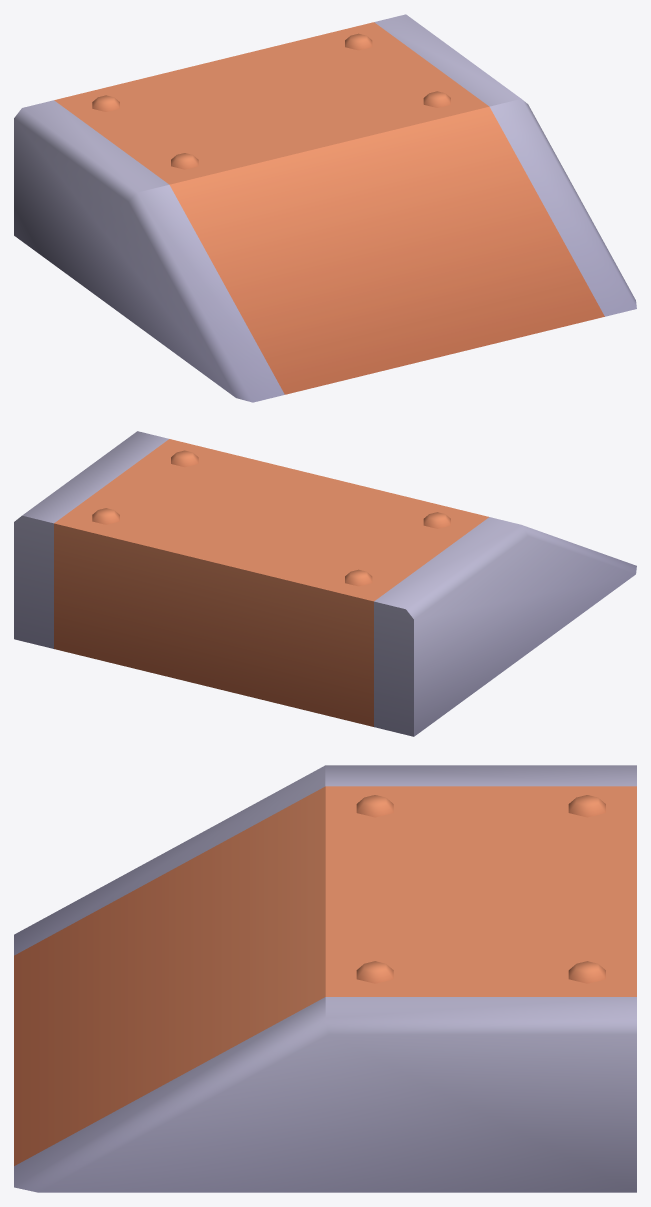
Rendered from sport_ramp.glb.
The picture shows the model from 3 angles, top to bottom: view 1: azimuth 30°, elevation 25°; view 2: azimuth 150°, elevation 25°; view 3: azimuth 270°, elevation 25°; orthographic projection. The views are drawn at different scales.
Parts seen in each view (by area): view 1: ramp; view 2: ramp; view 3: ramp.
Part boxes in pixels (bbox=[...]): ramp: bbox=[14, 14, 636, 402]; ramp: bbox=[14, 431, 636, 736]; ramp: bbox=[14, 765, 636, 1192].
Bounding box in the file's own units: 1 × 0.3149 × 1.
1 material, 1 textured.
